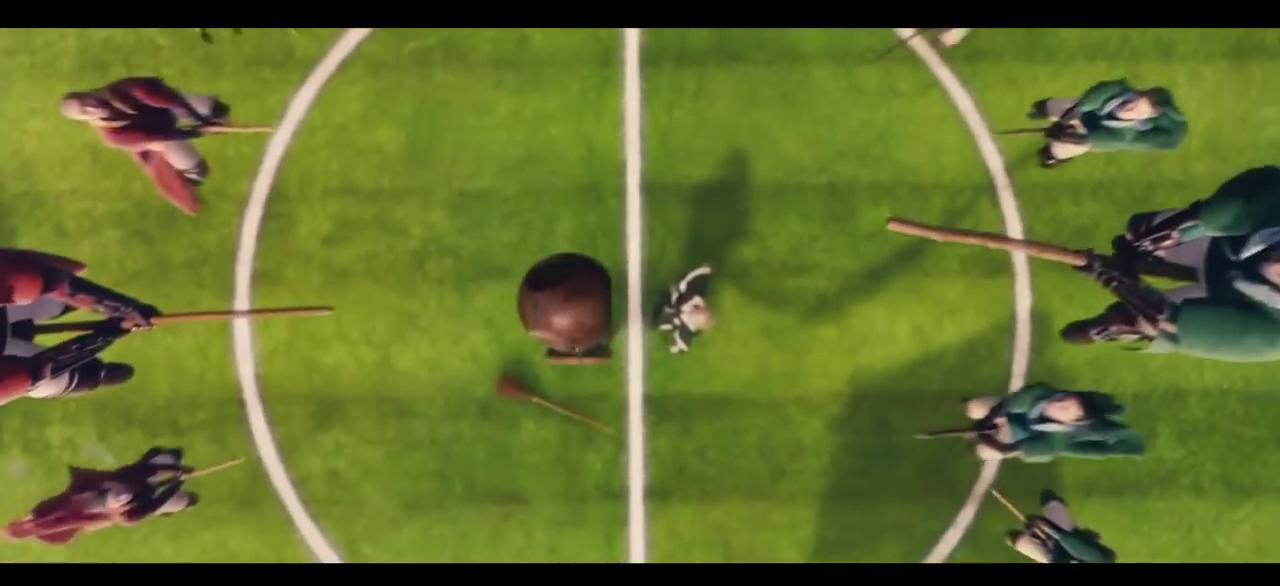quaffle: (516, 250, 617, 348)
